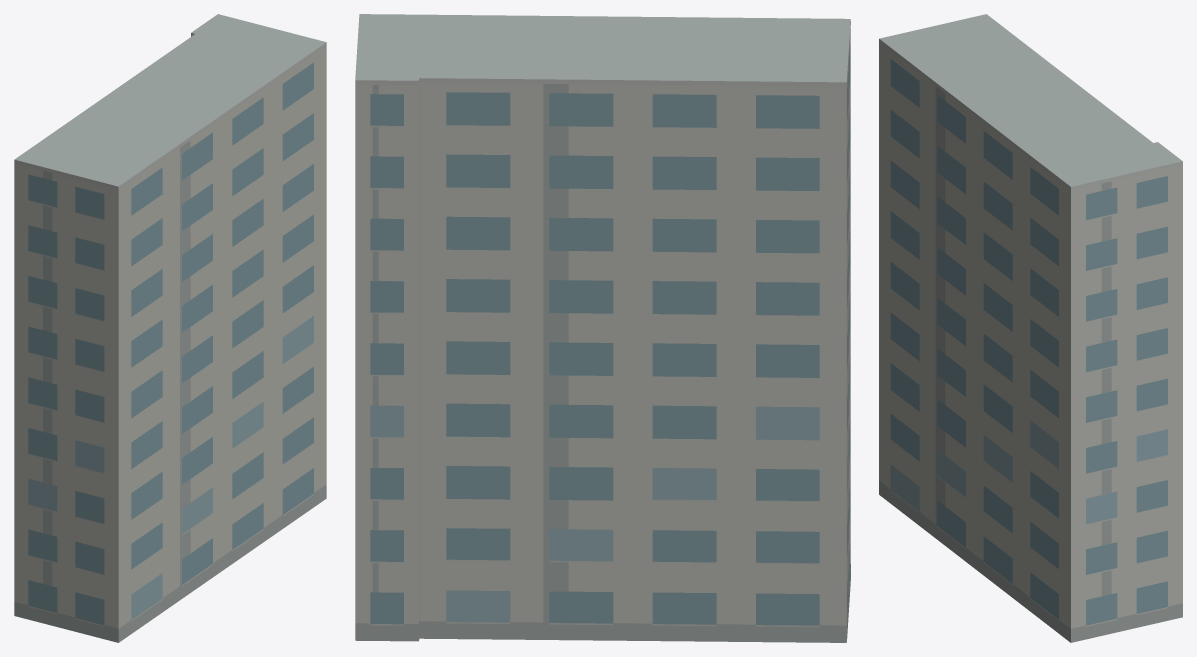
File: survey-upis-32763704.glb
3 views of the same model, side by side, from view 1: azimuth 30°, elevation 25°; view 2: azimuth 150°, elevation 25°; view 3: azimuth 270°, elevation 25° (orthographic). The views are drawn at different scales.
Parts seen in each view (by area): view 1: survey-upis-32763704.tmp; view 2: survey-upis-32763704.tmp; view 3: survey-upis-32763704.tmp.
Boxes of the visible parts, x1=… form: survey-upis-32763704.tmp: x1=14, y1=14, x2=326, y2=642; survey-upis-32763704.tmp: x1=355, y1=14, x2=850, y2=642; survey-upis-32763704.tmp: x1=879, y1=14, x2=1182, y2=642.
Bounding box in the file's own units: 23.99 × 29.5 × 17.82.
